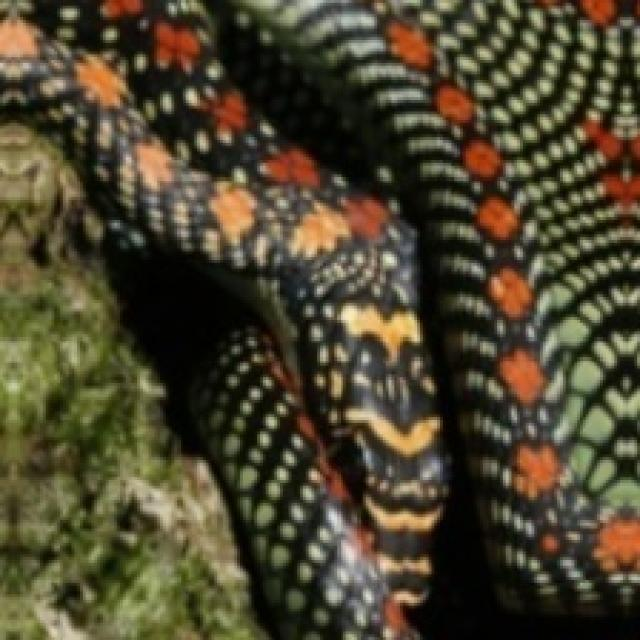paradise tree snake: (0, 0, 443, 637), (0, 0, 443, 634), (280, 0, 637, 629)
